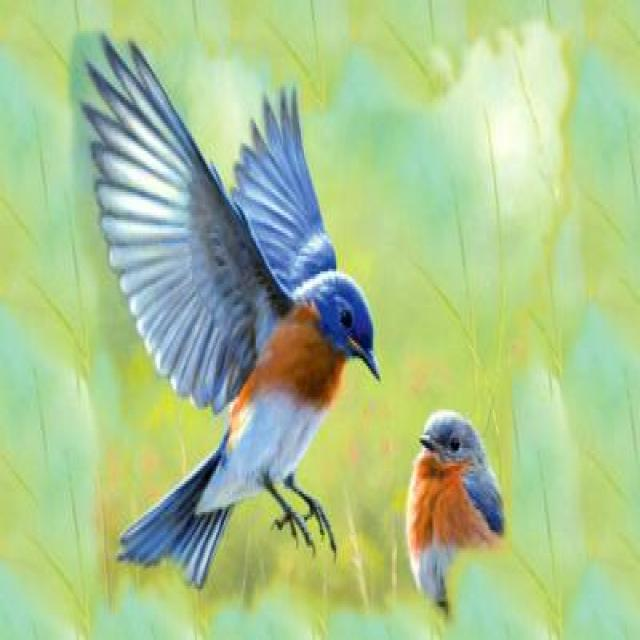birds: (76, 26, 384, 600), (404, 398, 512, 626)
